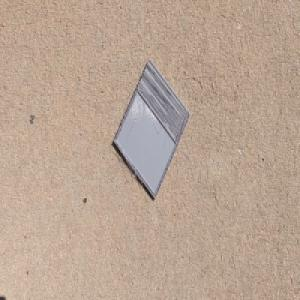PlasticPart: (112, 58, 191, 200)
